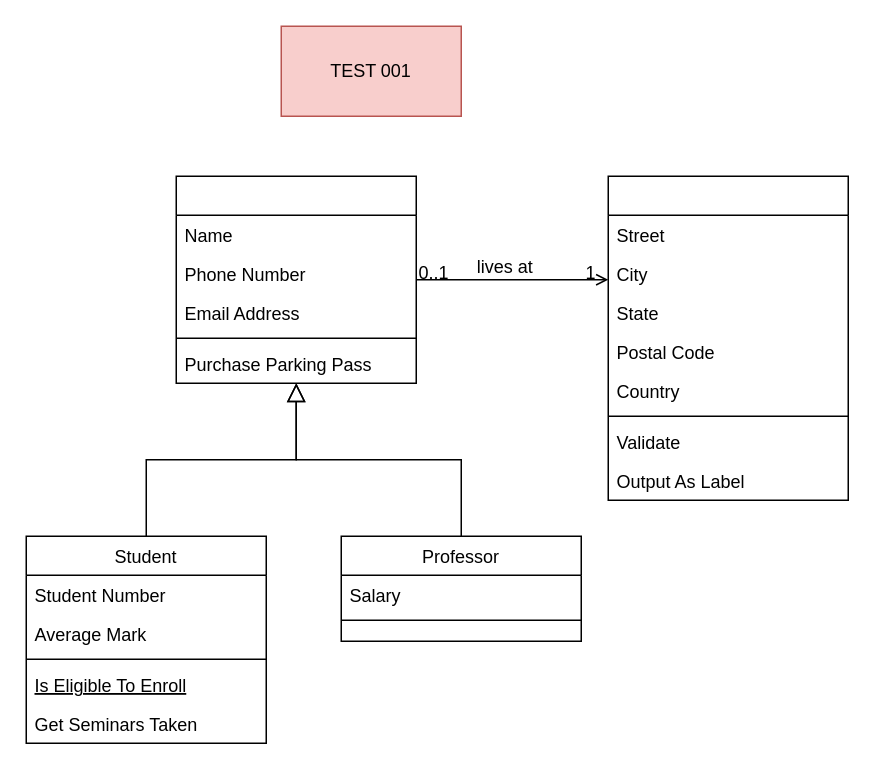
This 875x774 diagram has some shape labels left out. The shapes that lost their labels are listed below. From the top down, each one's box as (x1, y1, x2, y2) in pixels, then its label:
(175, 175, 416, 383): Person
(607, 175, 848, 500): Address
